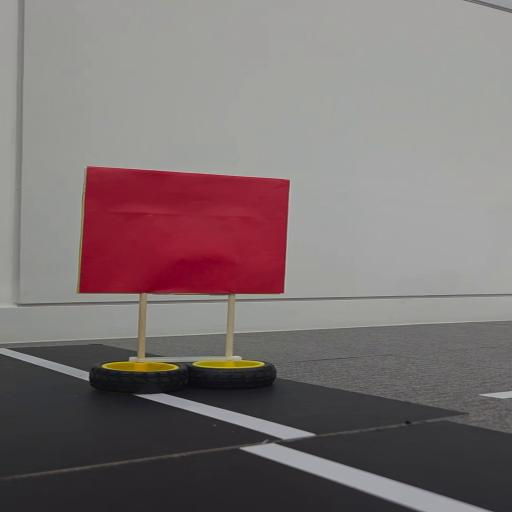Sign_A: (74, 160, 289, 379)
